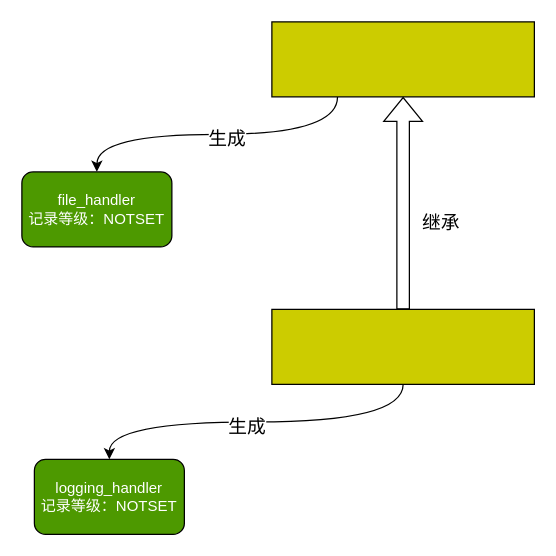
Some shapes in this 556 by 556 pixel diagram are drawn without their labels. The centre of each missing label's shape, as x and y in pixels:
名称： log_record 层级： ROOT 日志等级 ：DEBUG: the point at 402,59
名称： logs 层级： ROOT子对象 日志等级： INFO: the point at 402,346
